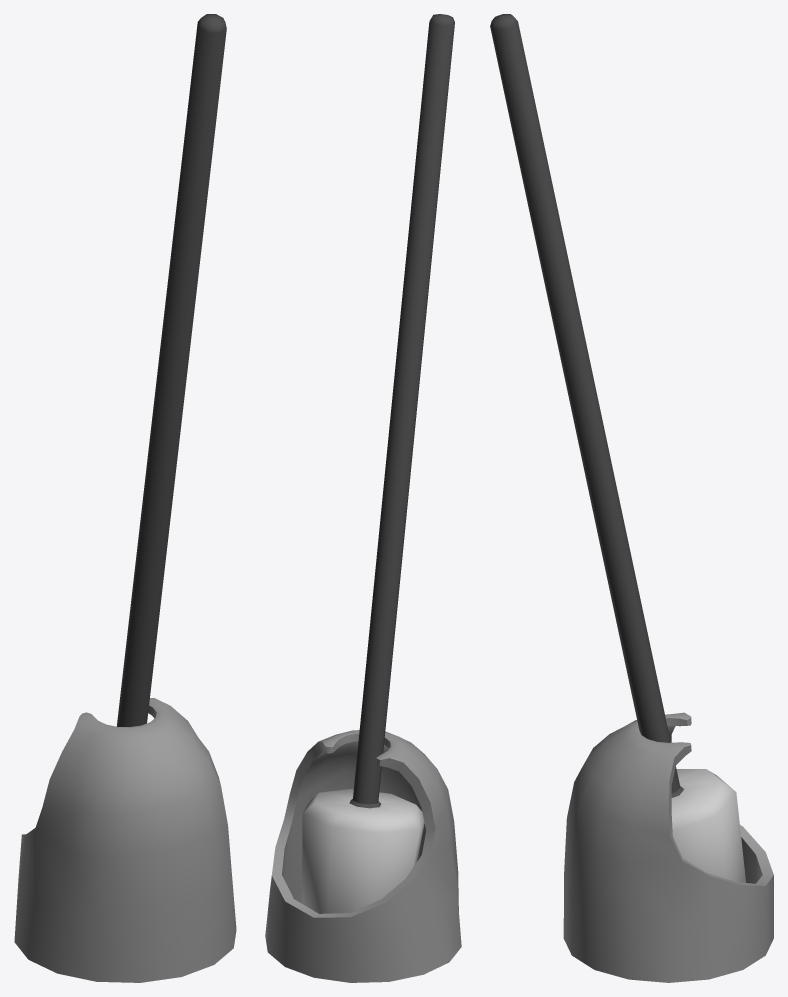
The model's file is Hea_Ba_Toiletbrush.fbx.
3 renders of one model, left to right at view 1: azimuth 30°, elevation 25°; view 2: azimuth 150°, elevation 25°; view 3: azimuth 270°, elevation 25°, orthographic. The views are drawn at different scales.
Visible parts, largest first — view 1: Toilet_Brush_Base_I3, Toilet_Brush_I3; view 2: Toilet_Brush_I3, Toilet_Brush_Base_I3; view 3: Toilet_Brush_Base_I3, Toilet_Brush_I3.
Part boxes in pixels (x1,y1,x2,y2): Toilet_Brush_Base_I3: [14, 698, 236, 982]; Toilet_Brush_I3: [116, 14, 226, 727]; Toilet_Brush_I3: [302, 14, 454, 913]; Toilet_Brush_Base_I3: [265, 730, 461, 982]; Toilet_Brush_Base_I3: [563, 712, 773, 982]; Toilet_Brush_I3: [490, 14, 745, 882].
Bounding box in the file's own units: 16.65 × 80.57 × 22.48.
